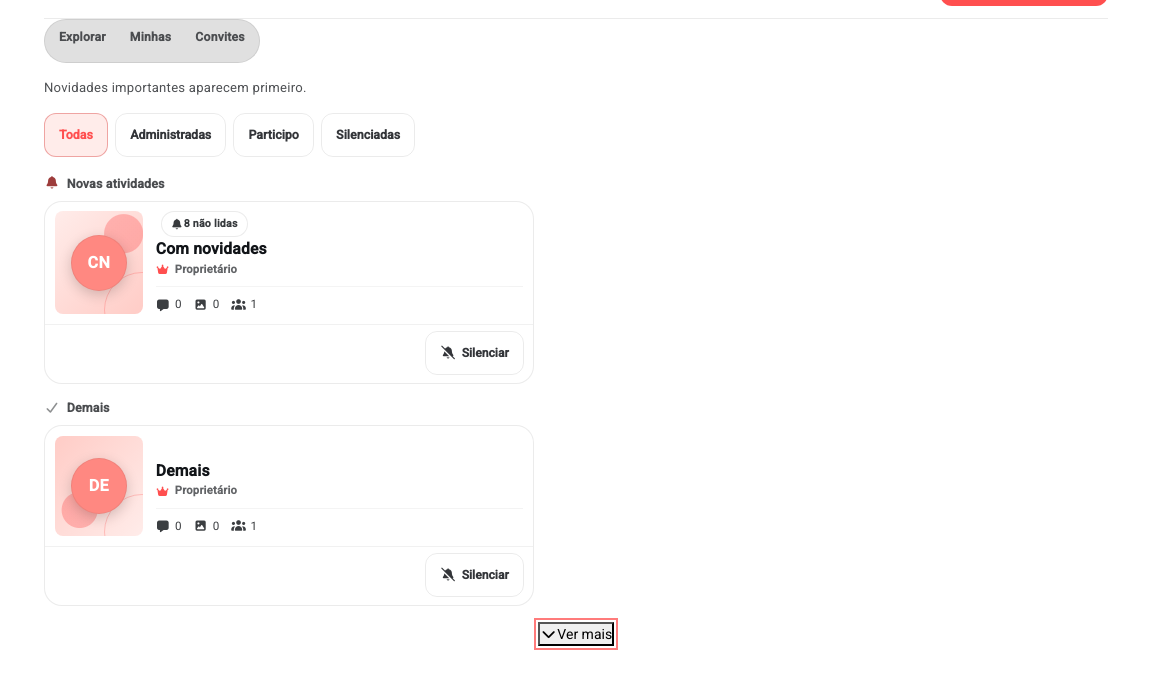
Test: CommunityDiscoveryPageComponent / escopo de atenção carregada › reagrupa somente itens carregados ao ver mais, elimina duplicata e preserva foco e cursor
Click the button with aria-label "Ver mais comunidades" at (576, 634), box [538,622,614,646]
(page scrolled)
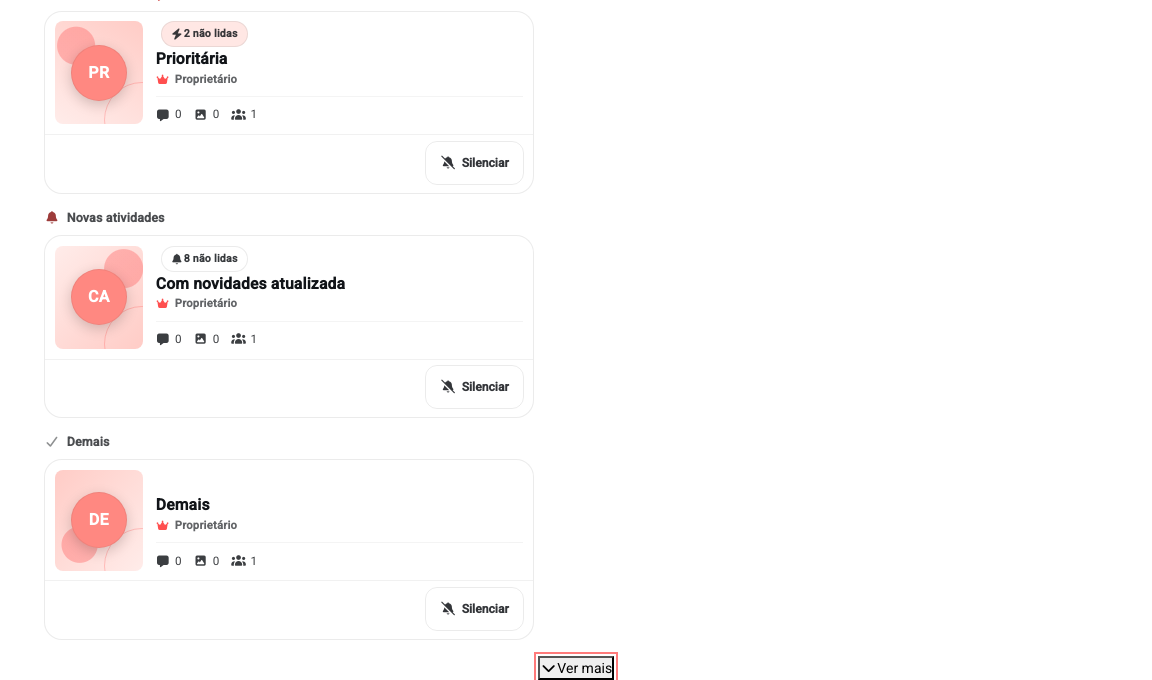
Now the number of links with class "community-card--mine" is 3, box [45,12,533,134]; [45,236,533,359]; [45,460,533,580]
